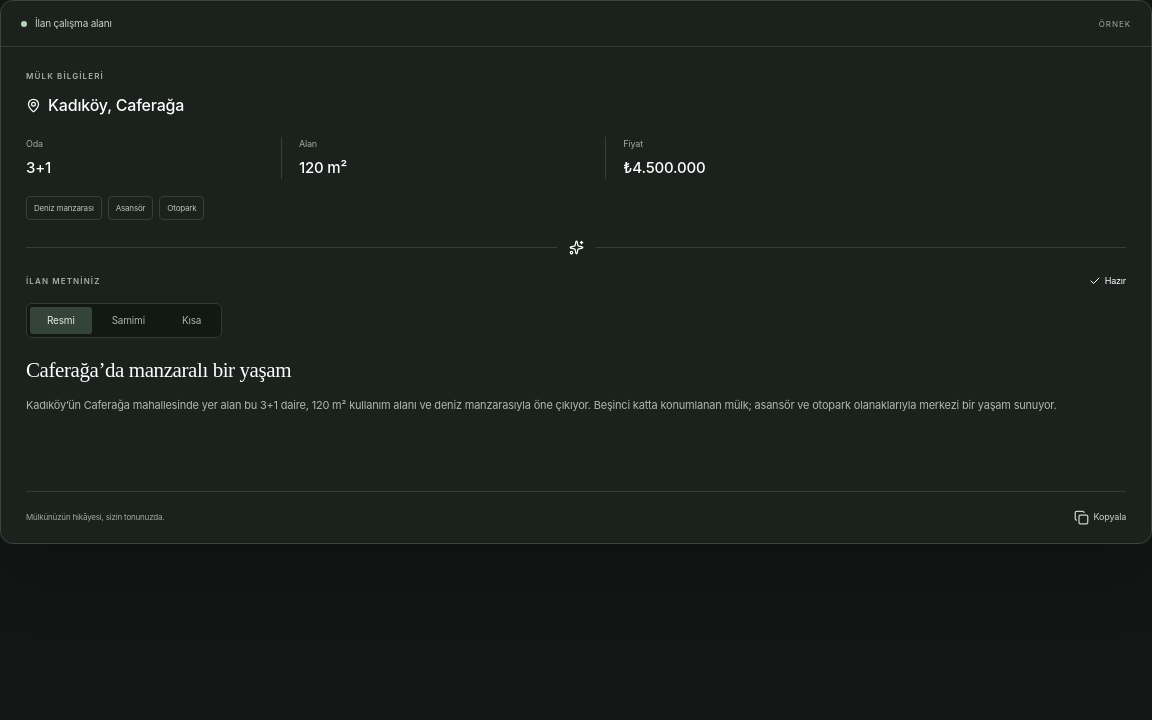
Scenario: ListingDemo clipboard feedback › shows a useful fallback when clipboard permission is denied
Click the button with aria-label "Örnek metni kopyala" at (1097, 517), box [1069,504,1126,530]
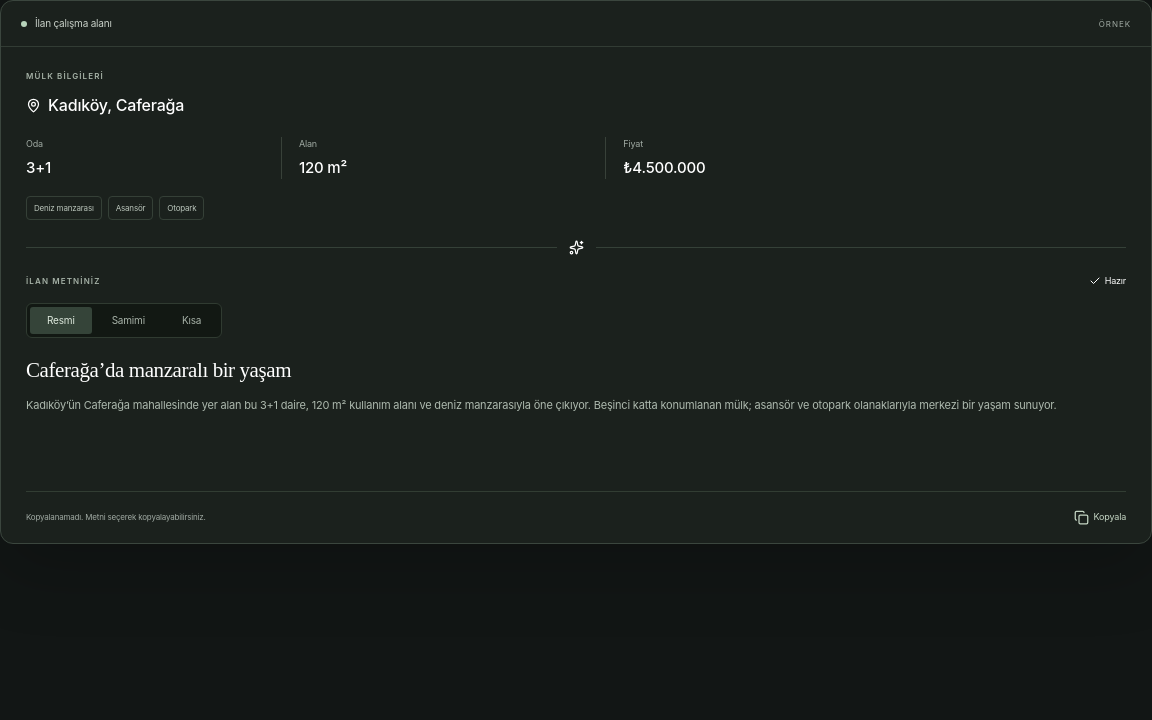
Check: the text "Kopyalanamadı. Metni seçerek kopyalayabilirsiniz." is shown, box [26,511,206,523]
